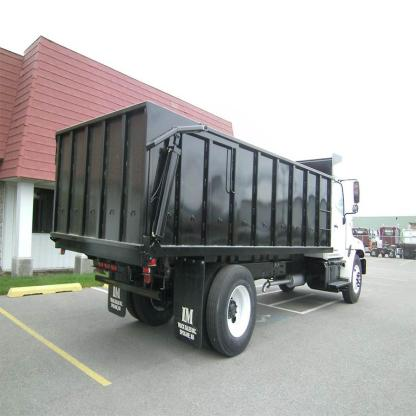dump_truck: (47, 99, 372, 361)
